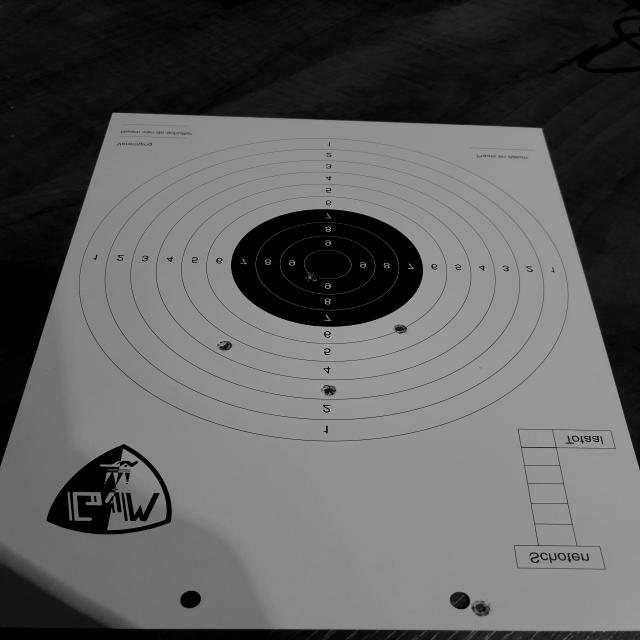0: (469, 601, 495, 617)
10: (304, 270, 324, 285)
3: (320, 382, 340, 398)
4: (214, 341, 236, 352)
6: (391, 322, 412, 338)
Target: (73, 136, 568, 443)
black_contour: (231, 208, 423, 327)
